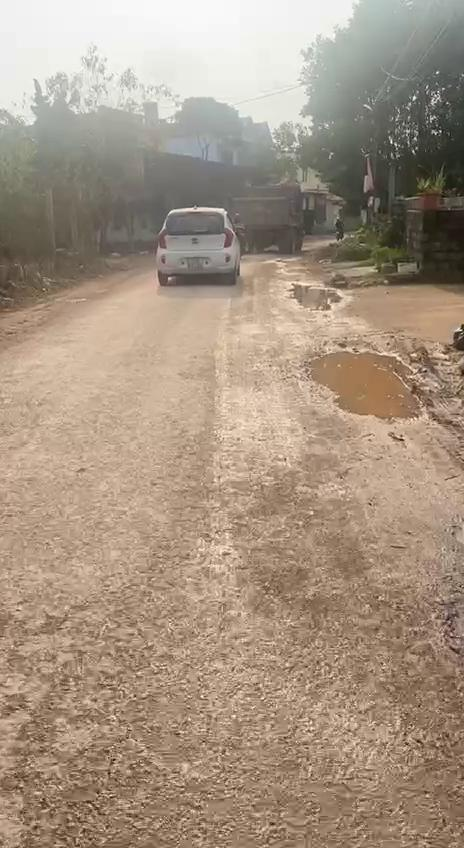pothole: (311, 342, 426, 431), (288, 282, 342, 314)
